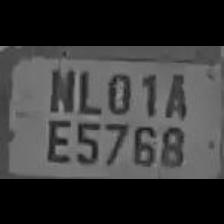0: (101, 65, 133, 112)
1: (134, 65, 160, 115)
5: (71, 113, 101, 163)
6: (128, 120, 158, 166)
7: (100, 116, 127, 168)
8: (156, 122, 186, 168)
A: (158, 67, 188, 119)
E: (42, 114, 70, 164)
L: (72, 64, 102, 112)
N: (45, 62, 75, 112)
